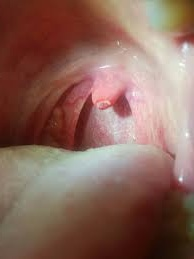Ulcer: (94, 94, 115, 111)
